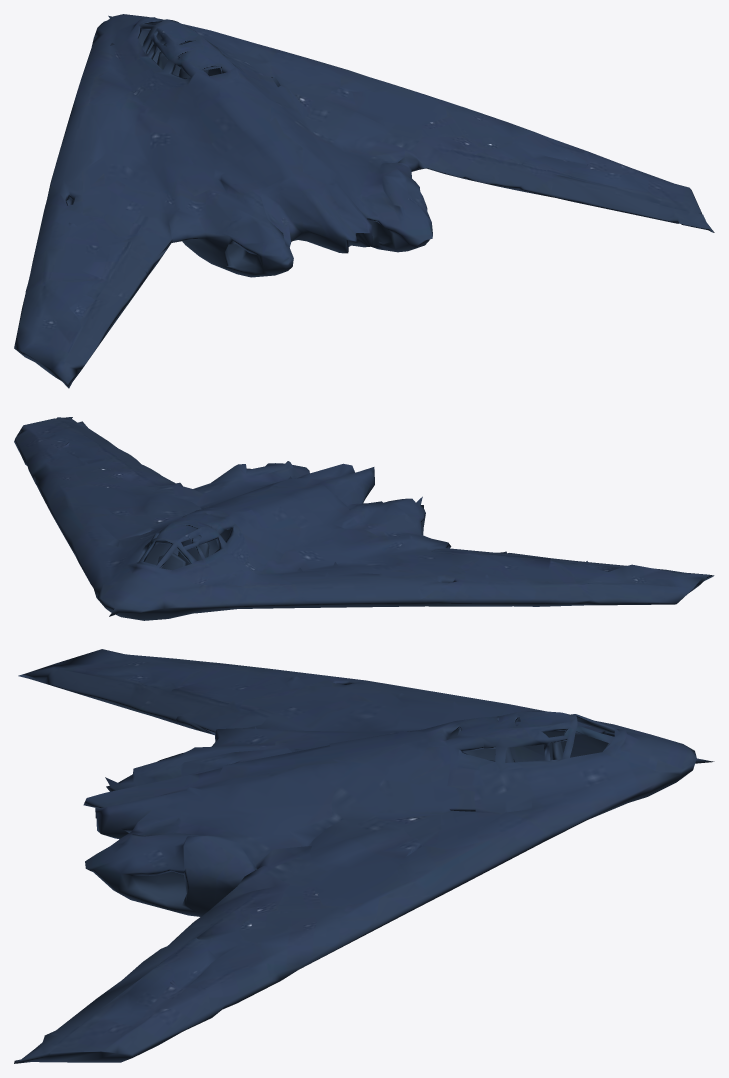
Rendered from wing.glb.
The picture shows the model from 3 angles, top to bottom: view 1: azimuth 30°, elevation 25°; view 2: azimuth 150°, elevation 25°; view 3: azimuth 270°, elevation 25°; orthographic projection. The views are drawn at different scales.
Visible parts, largest first — view 1: tripo_node_8ef38bb7-febb-4cc2-8df1-3db0b2fa8588; view 2: tripo_node_8ef38bb7-febb-4cc2-8df1-3db0b2fa8588; view 3: tripo_node_8ef38bb7-febb-4cc2-8df1-3db0b2fa8588.
Part boxes in pixels (x1,y1,x2,y2): tripo_node_8ef38bb7-febb-4cc2-8df1-3db0b2fa8588: [14, 14, 714, 388]; tripo_node_8ef38bb7-febb-4cc2-8df1-3db0b2fa8588: [14, 417, 714, 620]; tripo_node_8ef38bb7-febb-4cc2-8df1-3db0b2fa8588: [14, 649, 714, 1063].
Bounding box in the file's own units: 1 × 0.1798 × 0.7372.
1 material, 1 textured.
